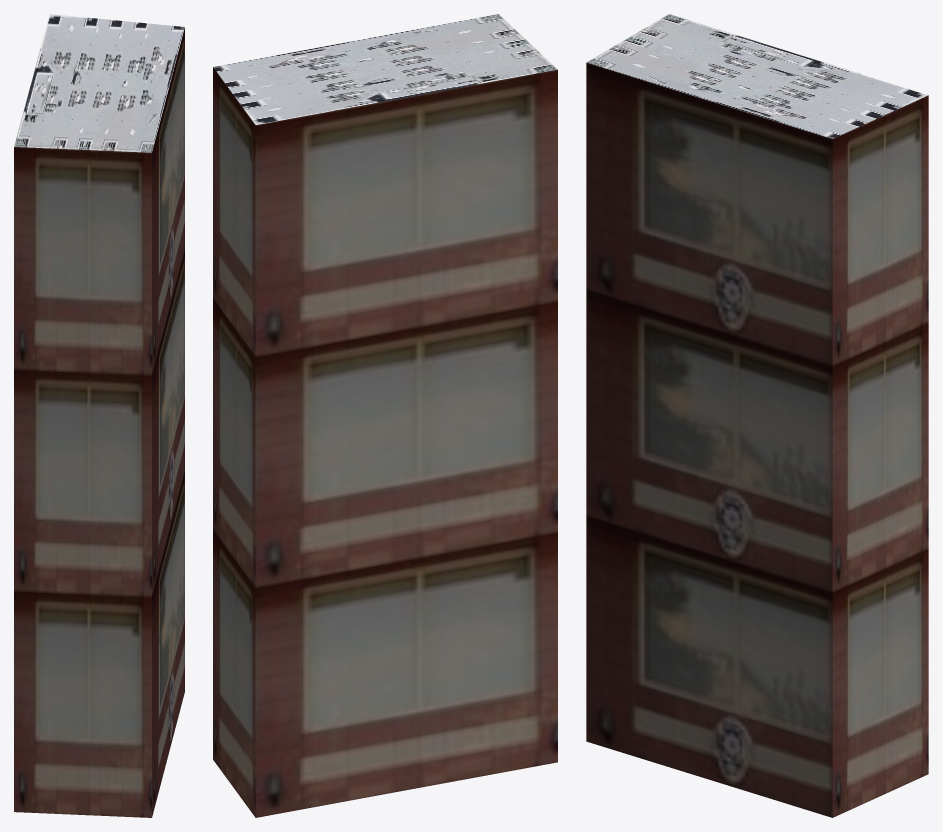
File: ResTex__2927.fbx
3 views of the same model, side by side, from view 1: azimuth 30°, elevation 25°; view 2: azimuth 150°, elevation 25°; view 3: azimuth 270°, elevation 25° (orthographic). The views are drawn at different scales.
Parts seen in each view (by area): view 1: CityEngineMaterial_13_m, CityEngineMaterial_8_m; view 2: CityEngineMaterial_13_m, CityEngineMaterial_8_m; view 3: CityEngineMaterial_13_m, CityEngineMaterial_8_m.
Boxes of the visible parts, left/top/right/bottom form: CityEngineMaterial_13_m: left=14, top=27, right=184, bottom=817; CityEngineMaterial_8_m: left=14, top=14, right=184, bottom=152; CityEngineMaterial_13_m: left=213, top=67, right=557, bottom=817; CityEngineMaterial_8_m: left=213, top=14, right=557, bottom=124; CityEngineMaterial_13_m: left=586, top=62, right=928, bottom=817; CityEngineMaterial_8_m: left=586, top=14, right=928, bottom=138.
Bounding box in the file's own units: 3.55 × 9 × 4.11.
2 materials, 2 textured.
